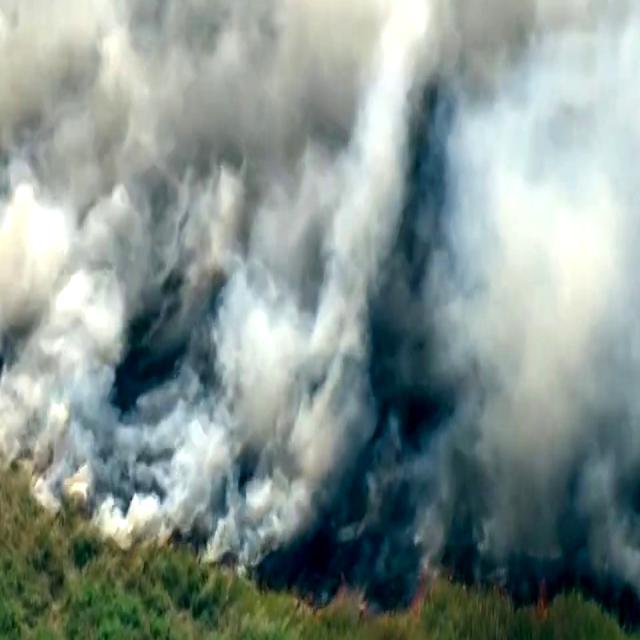smoke: (3, 0, 640, 531), (0, 0, 379, 543)
